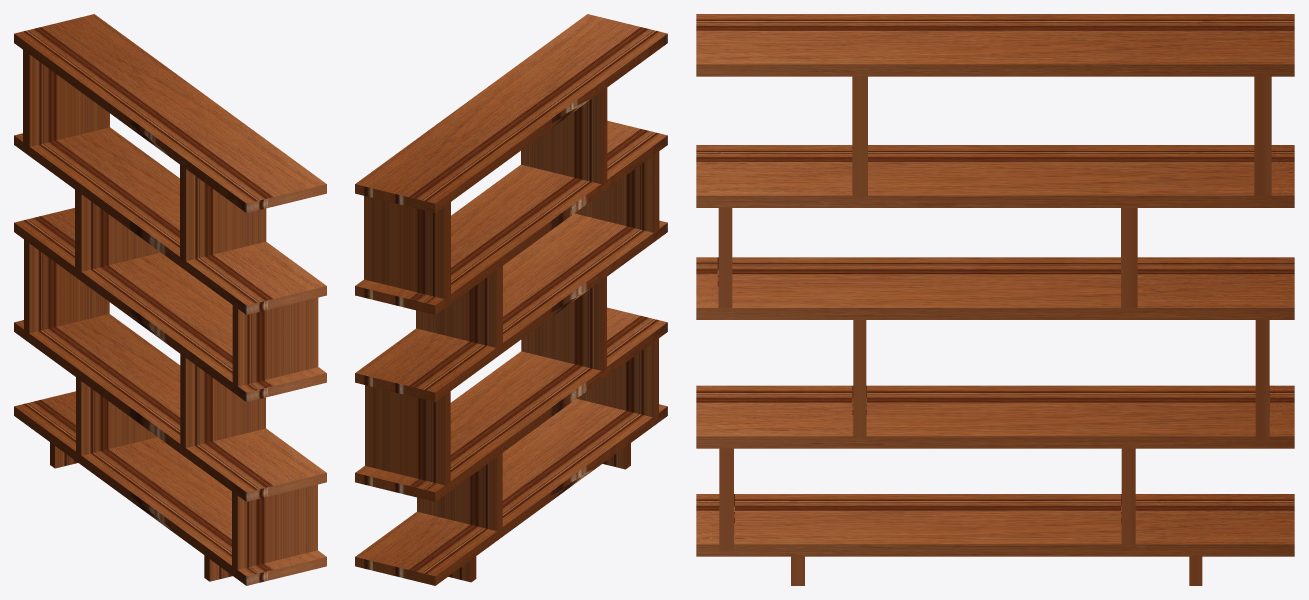
The model's file is copa-mld.glb.
3 renders of one model, left to right at view 1: azimuth 30°, elevation 25°; view 2: azimuth 150°, elevation 25°; view 3: azimuth 270°, elevation 25°, orthographic. The views are drawn at different scales.
Visible parts, largest first — view 1: Cube; view 2: Cube; view 3: Cube.
Boxes of the visible parts, x1,y1,x2,y2 form: Cube: [14, 14, 326, 585]; Cube: [355, 14, 667, 585]; Cube: [696, 14, 1294, 585].
Size of the model in its own units: 0.4379 by 2.11 by 2.19.
Materials: 1 (1 with a texture image).
